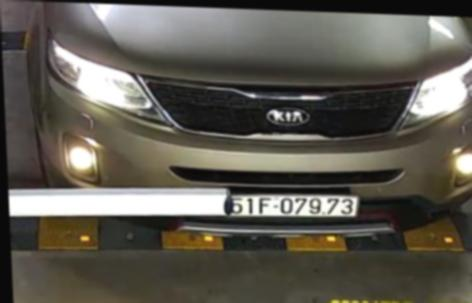License_Plate: (226, 189, 366, 226)
